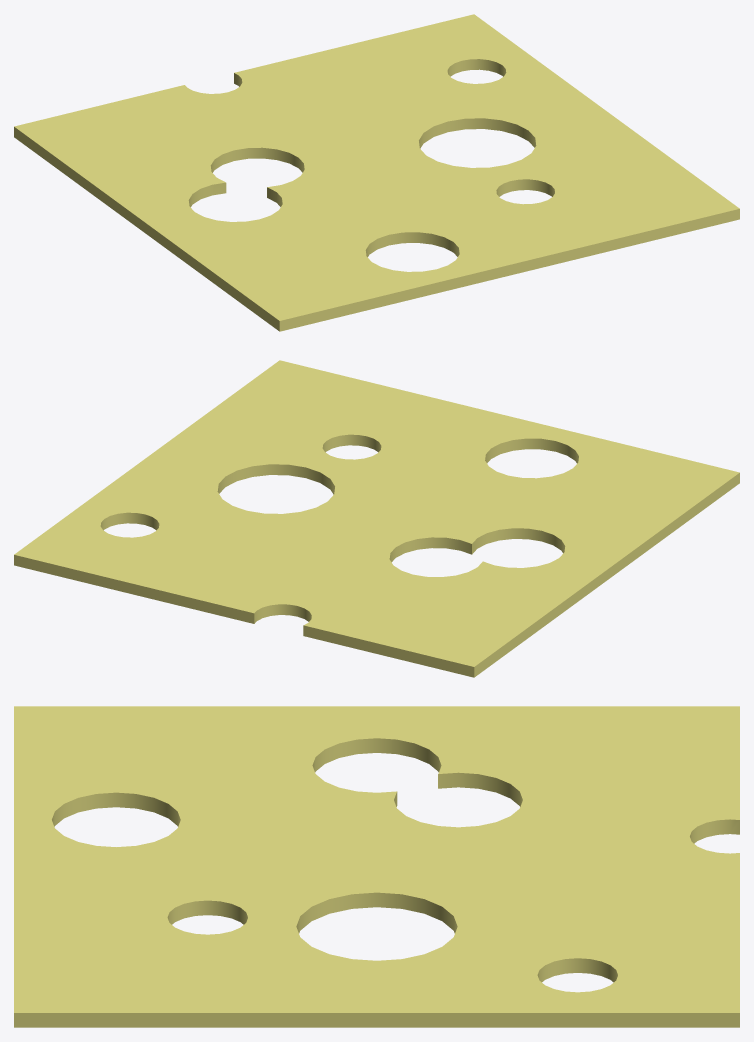
File: CheeseSlice02.fbx
3 renders of one model, top to bottom at view 1: azimuth 30°, elevation 25°; view 2: azimuth 150°, elevation 25°; view 3: azimuth 270°, elevation 25°, orthographic. The views are drawn at different scales.
Visible parts, largest first — view 1: pCube8; view 2: pCube8; view 3: pCube8.
Boxes of the visible parts, box(x1,y1,x2,y2) form: pCube8: box(14, 14, 739, 331); pCube8: box(14, 360, 739, 677); pCube8: box(14, 706, 739, 1027).
Bounding box in the file's own units: 9 × 0.2 × 9.
